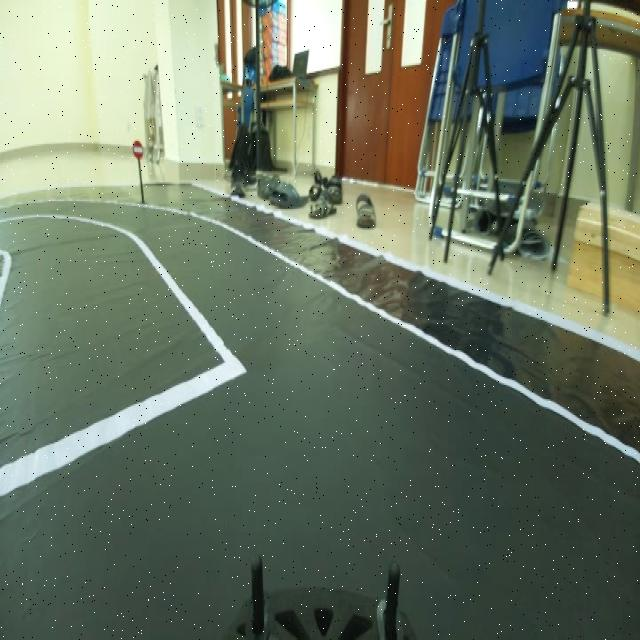no_entry: (130, 134, 147, 162)
